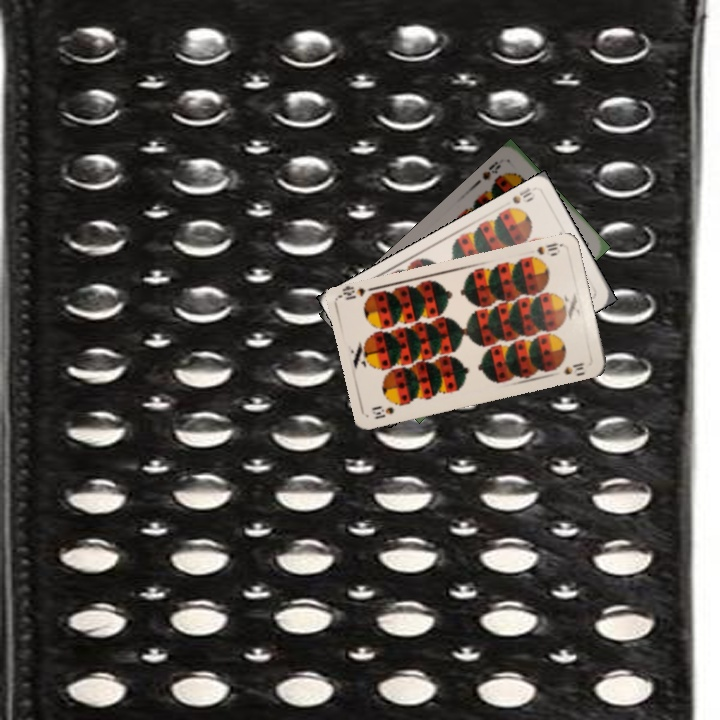S10: (502, 184, 536, 213), (524, 239, 563, 264), (368, 403, 397, 422)
S8: (478, 157, 504, 183)
